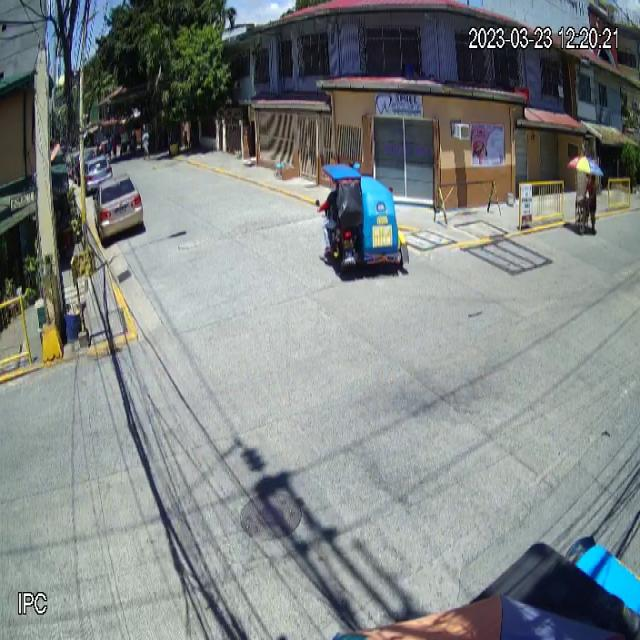Tricycle: (315, 162, 410, 276)
